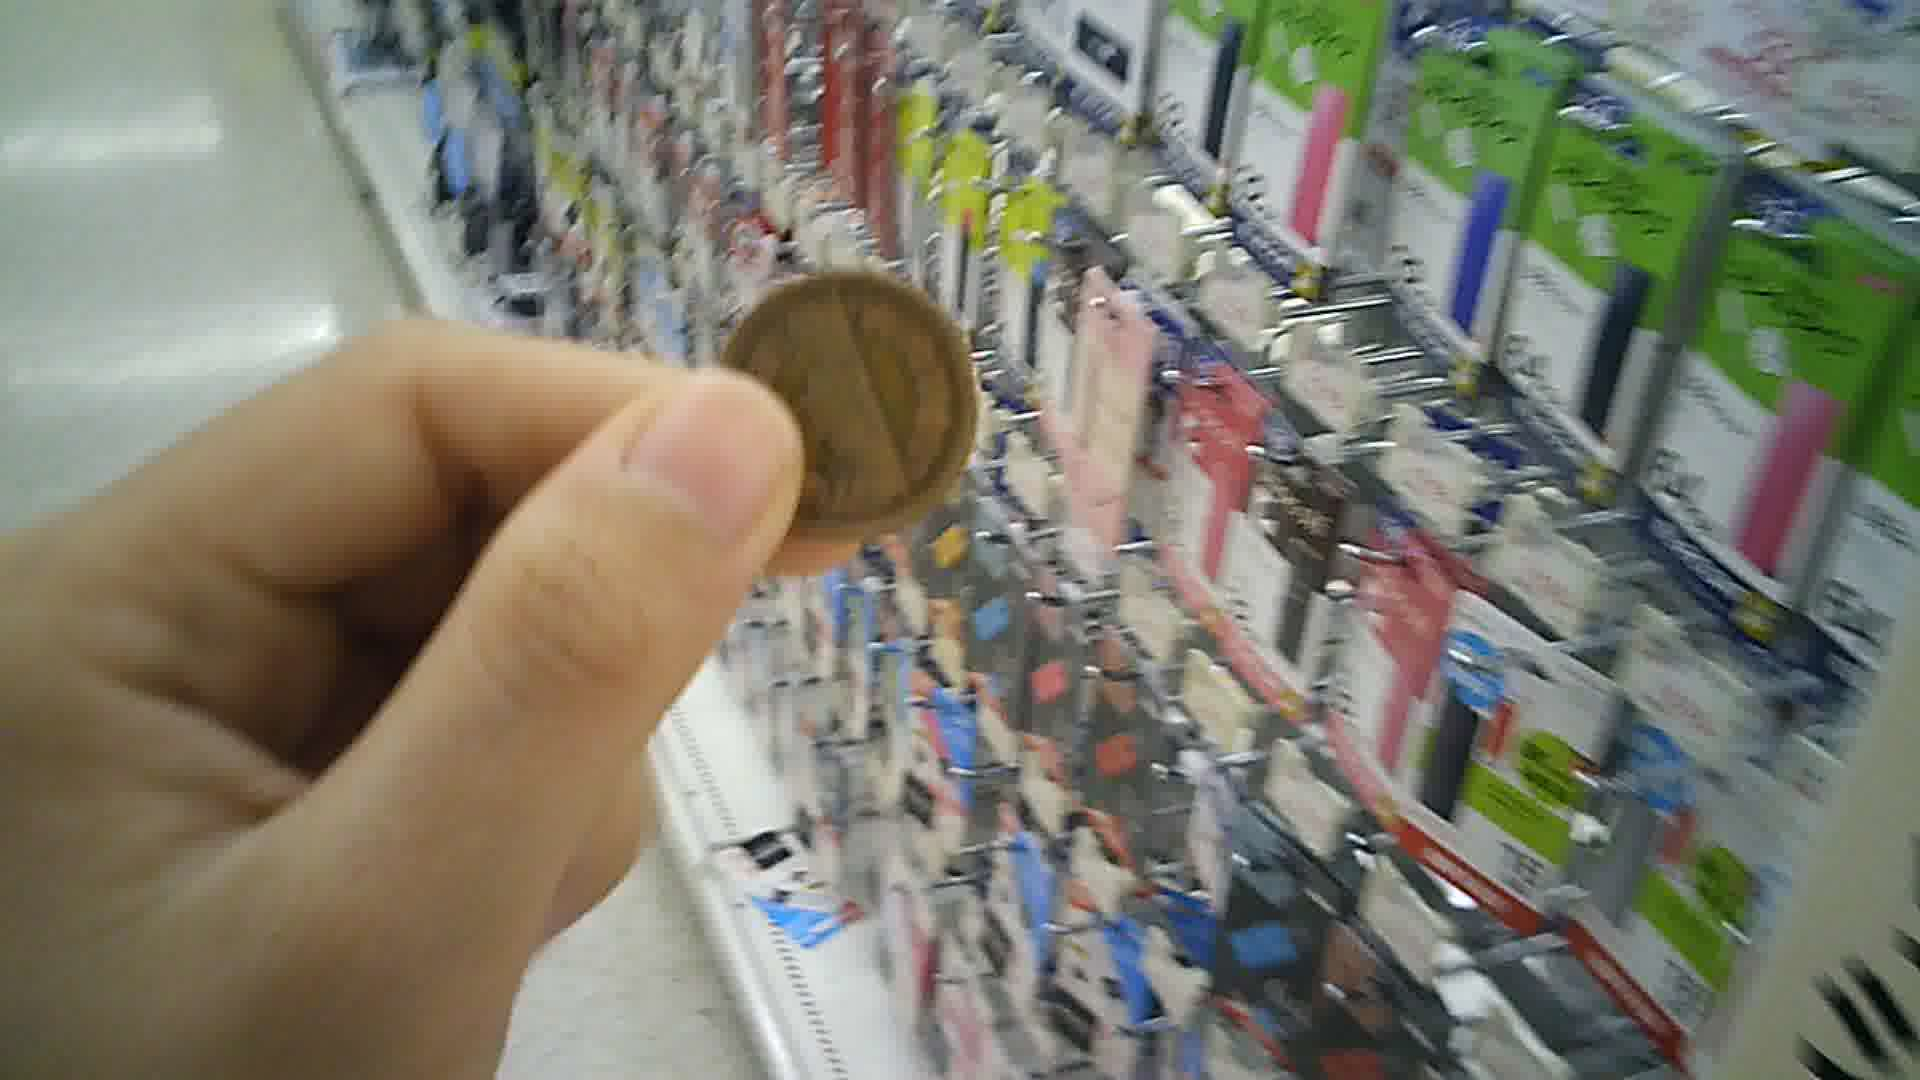10 Yen: (723, 261, 988, 538)
